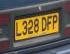2: (28, 19, 34, 34)
3: (22, 20, 28, 35)
8: (34, 18, 40, 33)
D: (42, 16, 47, 31)
F: (47, 15, 52, 31)
L: (16, 22, 22, 36)
P: (53, 14, 58, 29)
